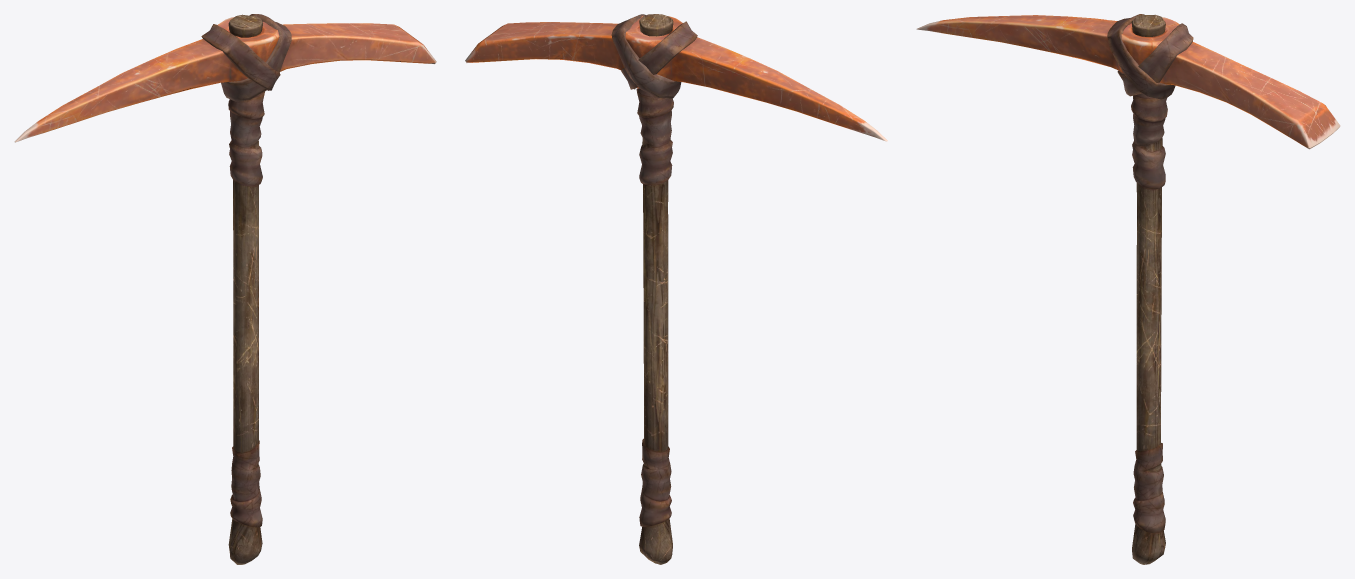
3 views of the same model, side by side, from view 1: azimuth 30°, elevation 25°; view 2: azimuth 150°, elevation 25°; view 3: azimuth 330°, elevation 25° (orthographic).
Parts seen in each view (by area): view 1: SM_Pickaxe_Bronze_2H_01_LOD0; view 2: SM_Pickaxe_Bronze_2H_01_LOD0; view 3: SM_Pickaxe_Bronze_2H_01_LOD0.
Part boxes in pixels (left/top/right/bottom): SM_Pickaxe_Bronze_2H_01_LOD0: left=14, top=14, right=436, bottom=564; SM_Pickaxe_Bronze_2H_01_LOD0: left=465, top=14, right=887, bottom=564; SM_Pickaxe_Bronze_2H_01_LOD0: left=916, top=14, right=1340, bottom=564.
Bounding box in the file's own units: 1.02 × 1.3 × 0.1601.
Materials: 1 (1 with a texture image).
